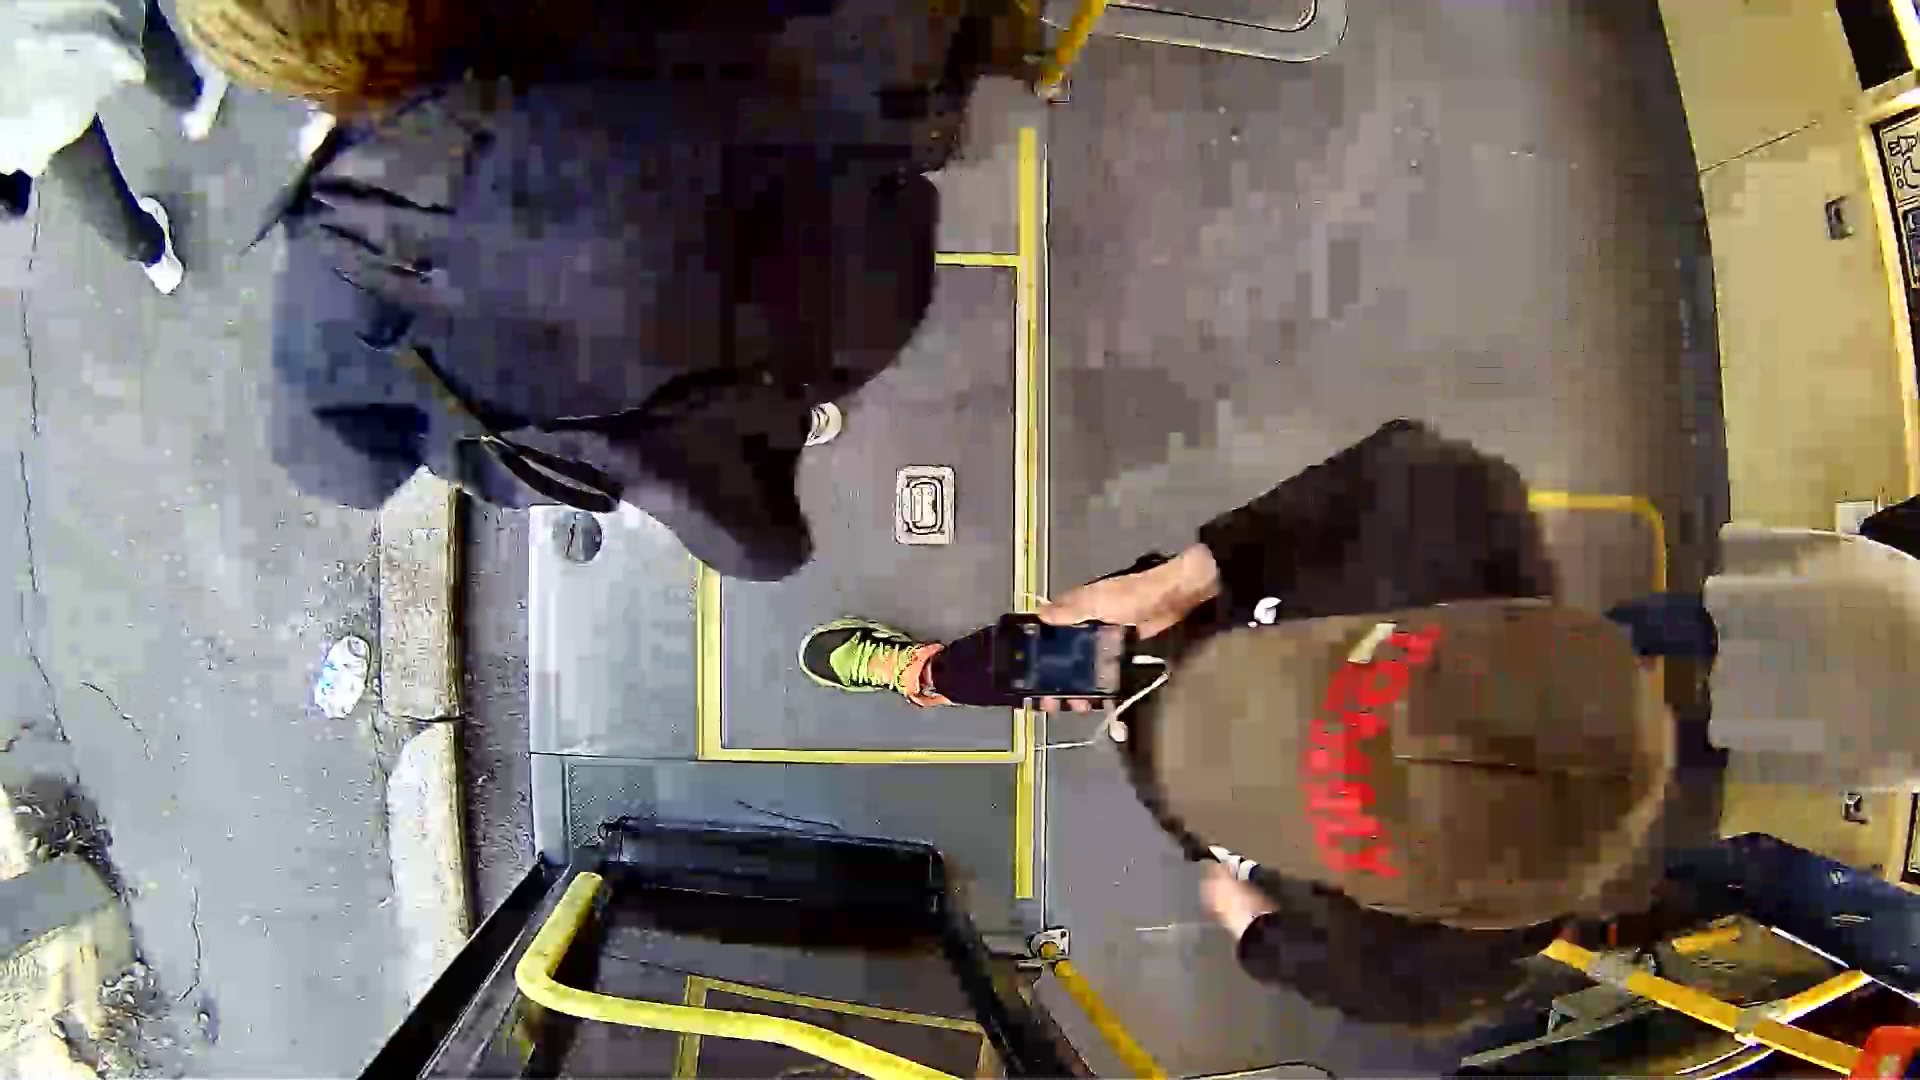person: (998, 395, 1771, 1001), (236, 11, 1009, 601)
